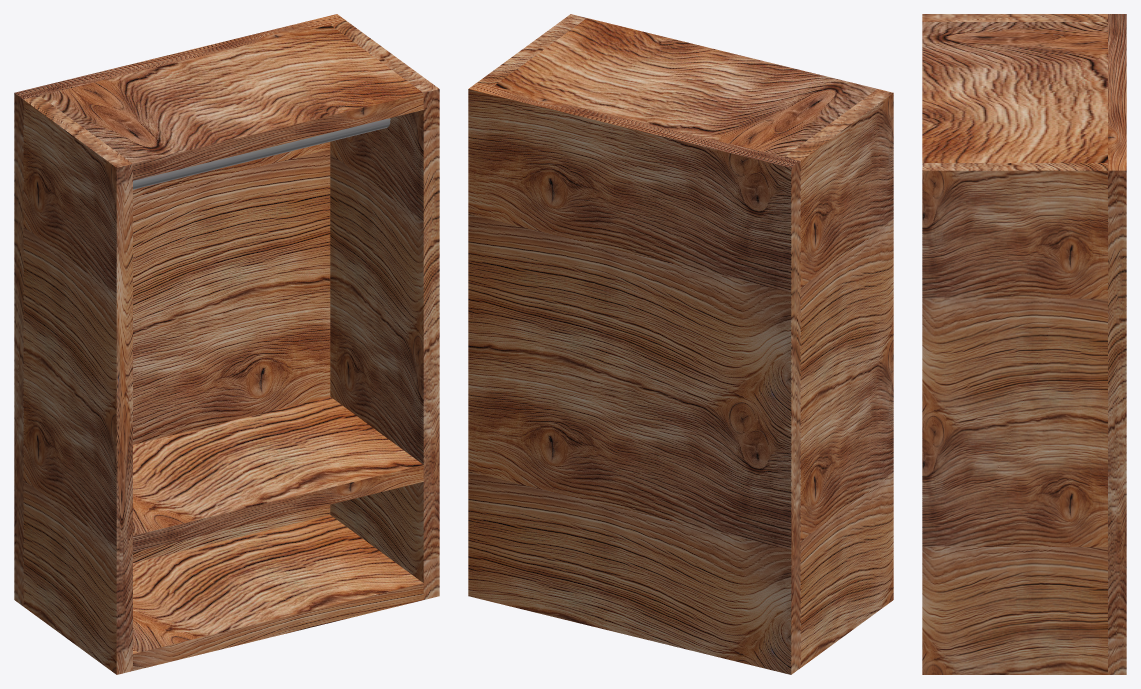
File: EstanteGuayaberas.obj
The picture shows the model from 3 angles, left to right: view 1: azimuth 30°, elevation 25°; view 2: azimuth 150°, elevation 25°; view 3: azimuth 270°, elevation 25°; orthographic projection.
Visible parts, largest first — view 1: estante1; view 2: estante1; view 3: estante1.
Part boxes in pixels (left/top/right/bottom): estante1: left=14, top=14, right=439, bottom=674; estante1: left=468, top=14, right=893, bottom=674; estante1: left=922, top=14, right=1126, bottom=674.
Size of the model in its own units: 1.2 by 1.8 by 0.66.
2 materials, 2 textured.
